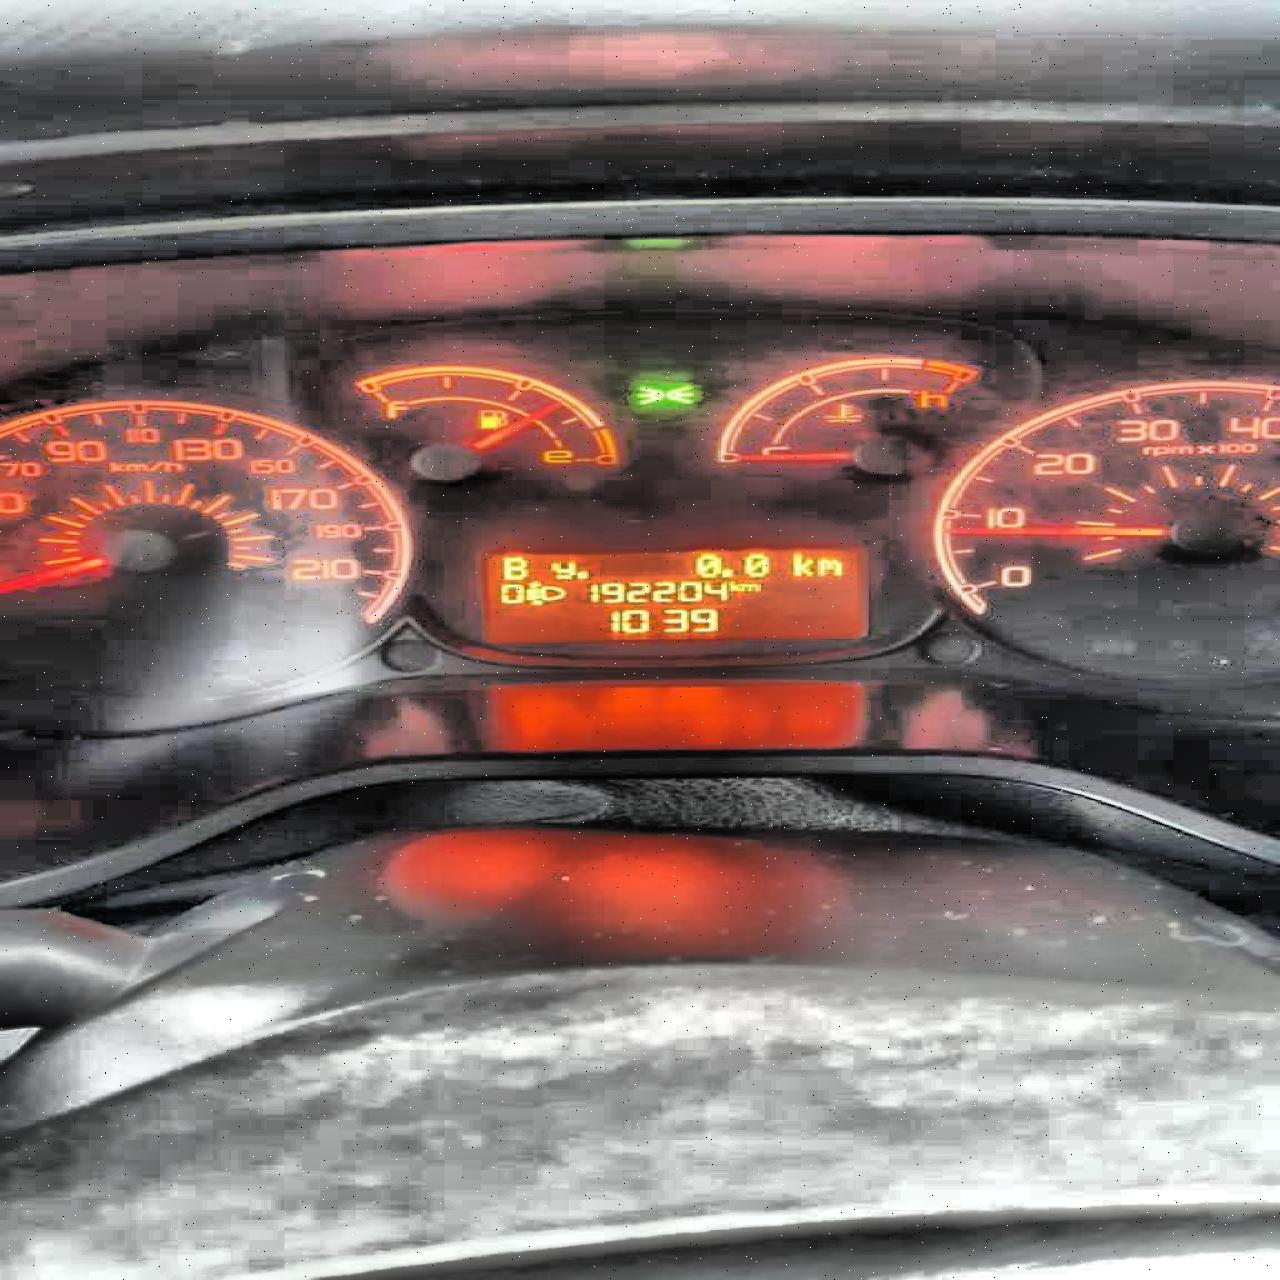-: (573, 567, 591, 579), (720, 565, 734, 576)
0: (740, 551, 769, 578), (620, 607, 649, 633), (693, 551, 720, 578), (496, 581, 523, 604), (675, 580, 700, 601)
1: (607, 607, 620, 633), (586, 581, 598, 602)
2: (648, 580, 675, 602), (625, 580, 648, 602)
3: (660, 606, 687, 633)
4: (702, 580, 727, 601)
9: (689, 607, 719, 633), (598, 580, 622, 602)
X: (498, 553, 529, 579), (789, 549, 813, 578), (813, 556, 843, 576), (549, 559, 573, 580), (740, 581, 760, 592), (727, 579, 741, 592)
odometer: (476, 540, 878, 644)
